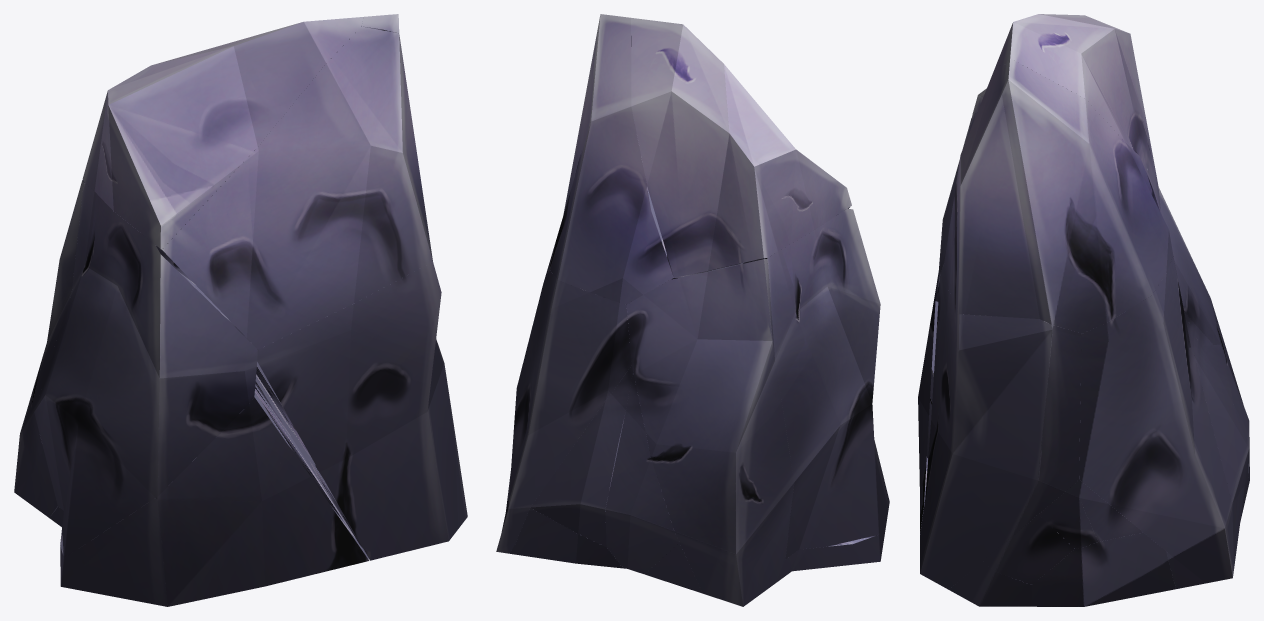
Rendered from Stone 3 Fragments.fbx.
The picture shows the model from 3 angles, left to right: view 1: azimuth 30°, elevation 25°; view 2: azimuth 150°, elevation 25°; view 3: azimuth 270°, elevation 25°; orthographic projection. The views are drawn at different scales.
Parts seen in each view (by area): view 1: Cube.002_cell.003, Cube.002_cell.005, Cube.002_cell.001, Cube.002_cell, Cube.002_cell.002, Cube.002_cell.004; view 2: Cube.002_cell.004, Cube.002_cell.002, Cube.002_cell.005, Cube.002_cell.007, Cube.002_cell.009, Cube.002_cell.008_cell.005, Cube.002_cell.008_cell.001, Cube.002_cell.008_cell.002, Cube.002_cell, Cube.002_cell.008_cell.004; view 3: Cube.002_cell.001, Cube.002_cell.009, Cube.002_cell.007, Cube.002_cell.003, Cube.002_cell.002, Cube.002_cell.006_cell.001, Cube.002_cell.008_cell.001, Cube.002_cell.004, Cube.002_cell.006_cell.003, Cube.002_cell.006_cell, Cube.002_cell, Cube.002_cell.006_cell.006 (+5 smaller).
Part boxes in pixels (x1=…): Cube.002_cell.003: x1=162, y1=26, x2=432, y2=349; Cube.002_cell.005: x1=34, y1=183, x2=257, y2=557; Cube.002_cell.001: x1=255, y1=262, x2=457, y2=560; Cube.002_cell: x1=49, y1=381, x2=369, y2=606; Cube.002_cell.002: x1=82, y1=17, x2=363, y2=249; Cube.002_cell.004: x1=14, y1=180, x2=84, y2=517; Cube.002_cell.004: x1=626, y1=259, x2=794, y2=606; Cube.002_cell.002: x1=631, y1=18, x2=851, y2=277; Cube.002_cell.005: x1=765, y1=208, x2=880, y2=559; Cube.002_cell.007: x1=548, y1=14, x2=680, y2=304; Cube.002_cell.009: x1=496, y1=267, x2=631, y2=553; Cube.002_cell.008_cell.005: x1=605, y1=372, x2=679, y2=574; Cube.002_cell.008_cell.001: x1=530, y1=365, x2=632, y2=547; Cube.002_cell.008_cell.002: x1=510, y1=508, x2=622, y2=568; Cube.002_cell: x1=776, y1=440, x2=889, y2=582; Cube.002_cell.008_cell.004: x1=645, y1=543, x2=702, y2=593; Cube.002_cell.001: x1=920, y1=264, x2=1081, y2=589; Cube.002_cell.009: x1=1079, y1=256, x2=1233, y2=583; Cube.002_cell.007: x1=1002, y1=58, x2=1173, y2=333; Cube.002_cell.003: x1=944, y1=64, x2=1039, y2=318; Cube.002_cell.002: x1=972, y1=14, x2=1155, y2=194; Cube.002_cell.006_cell.001: x1=1031, y1=532, x2=1175, y2=606; Cube.002_cell.008_cell.001: x1=1184, y1=314, x2=1249, y2=503; Cube.002_cell.004: x1=1145, y1=115, x2=1243, y2=403; Cube.002_cell.006_cell.003: x1=983, y1=514, x2=1074, y2=584; Cube.002_cell.006_cell: x1=948, y1=561, x2=1031, y2=606; Cube.002_cell: x1=918, y1=301, x2=938, y2=534; Cube.002_cell.006_cell.006: x1=1038, y1=485, x2=1097, y2=548.
Bounding box in the file's own units: 1732 × 2248 × 1314.
